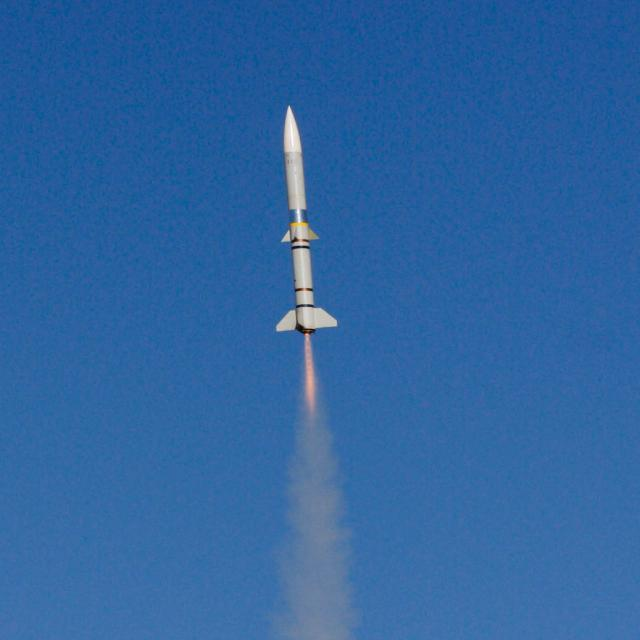Rocket: (271, 103, 340, 336)
